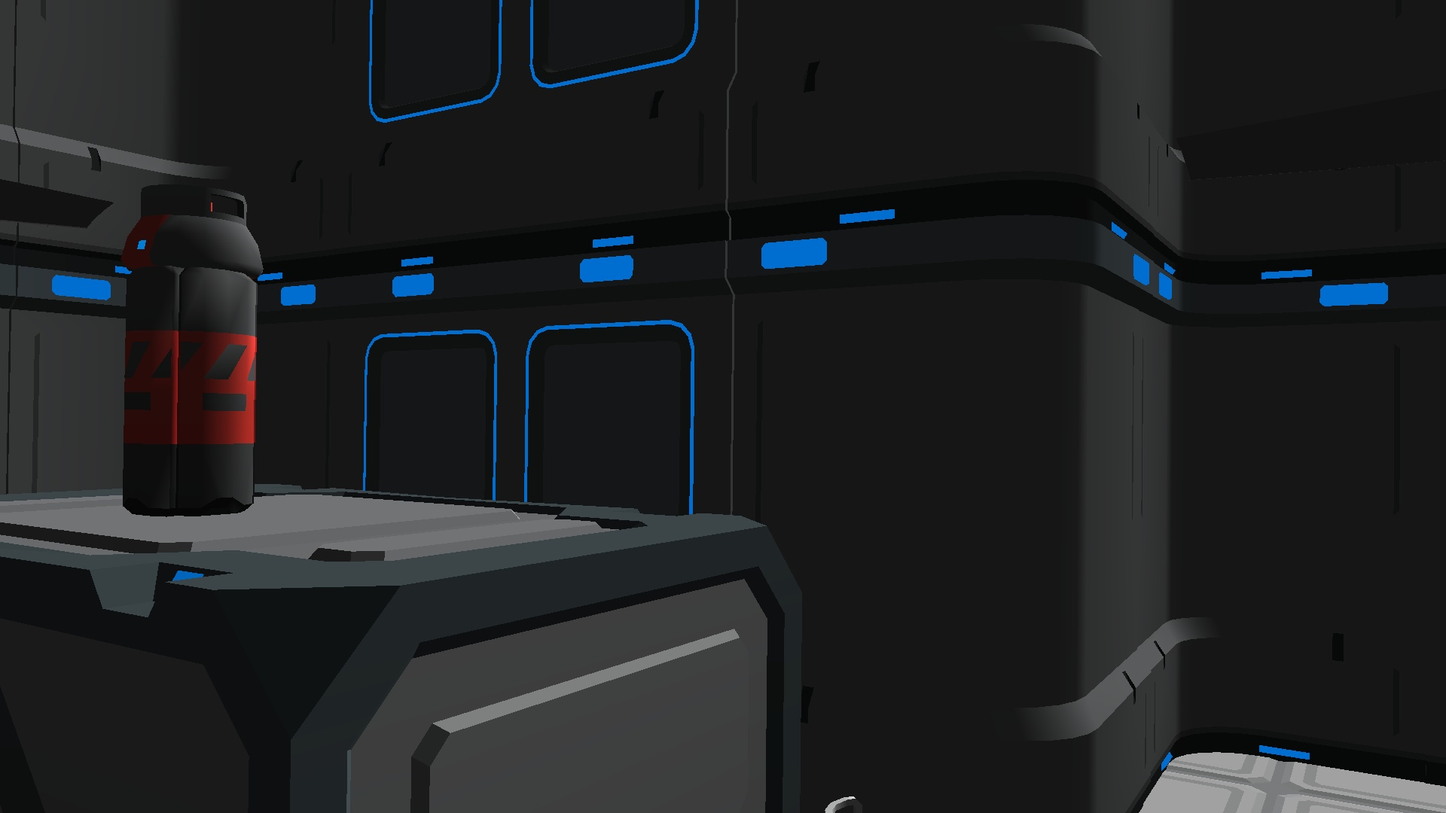red barrel: (121, 183, 264, 517)
